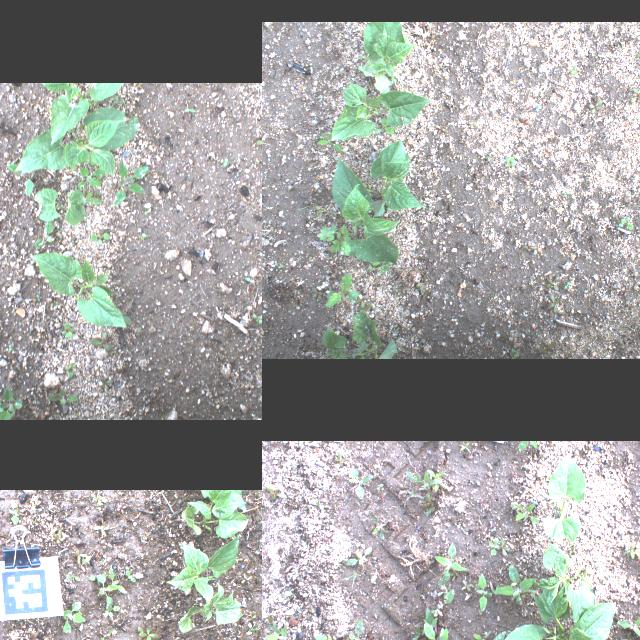crop: (15, 106, 139, 174), (32, 250, 132, 328), (332, 156, 402, 266), (486, 583, 615, 640), (332, 74, 432, 140), (530, 540, 596, 628), (166, 534, 240, 604), (42, 82, 125, 144), (368, 139, 424, 207), (543, 454, 585, 544), (180, 490, 248, 540), (322, 312, 398, 356), (358, 23, 418, 77), (178, 583, 242, 633), (34, 188, 86, 226), (324, 272, 360, 308)
weed: (492, 564, 538, 604), (406, 469, 448, 509), (434, 542, 470, 586), (114, 160, 148, 206), (315, 219, 355, 255), (423, 617, 467, 640), (370, 510, 398, 540), (62, 600, 86, 634), (348, 467, 372, 501), (0, 386, 23, 419), (98, 574, 120, 608), (78, 166, 108, 190), (318, 130, 347, 154), (511, 501, 539, 523), (47, 388, 79, 406), (342, 617, 367, 640), (263, 623, 296, 640), (34, 220, 54, 248), (344, 546, 372, 566), (109, 567, 128, 593), (618, 616, 640, 636), (476, 572, 486, 612), (90, 333, 112, 349), (465, 631, 504, 640), (136, 625, 159, 640), (8, 498, 20, 526), (621, 542, 640, 558), (60, 321, 76, 339), (544, 276, 564, 290), (90, 230, 110, 243), (25, 170, 35, 196), (267, 486, 287, 499), (76, 556, 92, 572), (544, 294, 558, 312), (88, 572, 106, 586), (86, 190, 102, 204), (620, 216, 636, 230), (335, 449, 349, 465), (488, 537, 500, 555), (498, 537, 510, 555), (631, 86, 640, 109), (519, 441, 539, 451), (64, 362, 76, 378), (472, 630, 491, 640), (313, 632, 336, 640), (92, 525, 110, 535), (75, 548, 87, 562), (54, 528, 64, 544), (620, 632, 639, 640), (505, 155, 517, 167), (126, 568, 136, 582), (64, 573, 80, 581), (6, 162, 18, 172), (312, 287, 322, 299), (300, 441, 330, 445), (252, 314, 262, 324), (220, 157, 230, 167), (591, 100, 601, 110), (509, 348, 518, 358), (257, 132, 262, 149), (184, 107, 196, 113), (522, 245, 540, 249), (243, 277, 254, 283), (486, 152, 492, 162), (570, 66, 576, 76), (140, 234, 148, 240), (564, 190, 570, 198), (8, 343, 12, 352), (36, 294, 40, 302), (136, 328, 142, 332), (162, 252, 166, 258), (144, 210, 150, 212)
